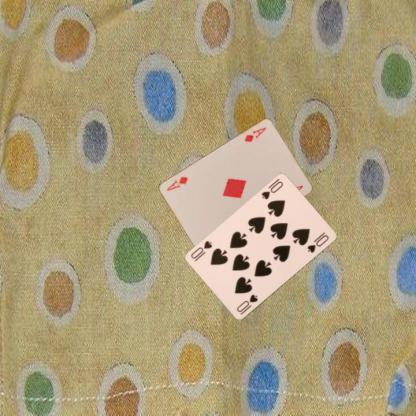10s: (234, 292, 259, 314), (259, 179, 284, 201)
Ad: (242, 125, 268, 143)
